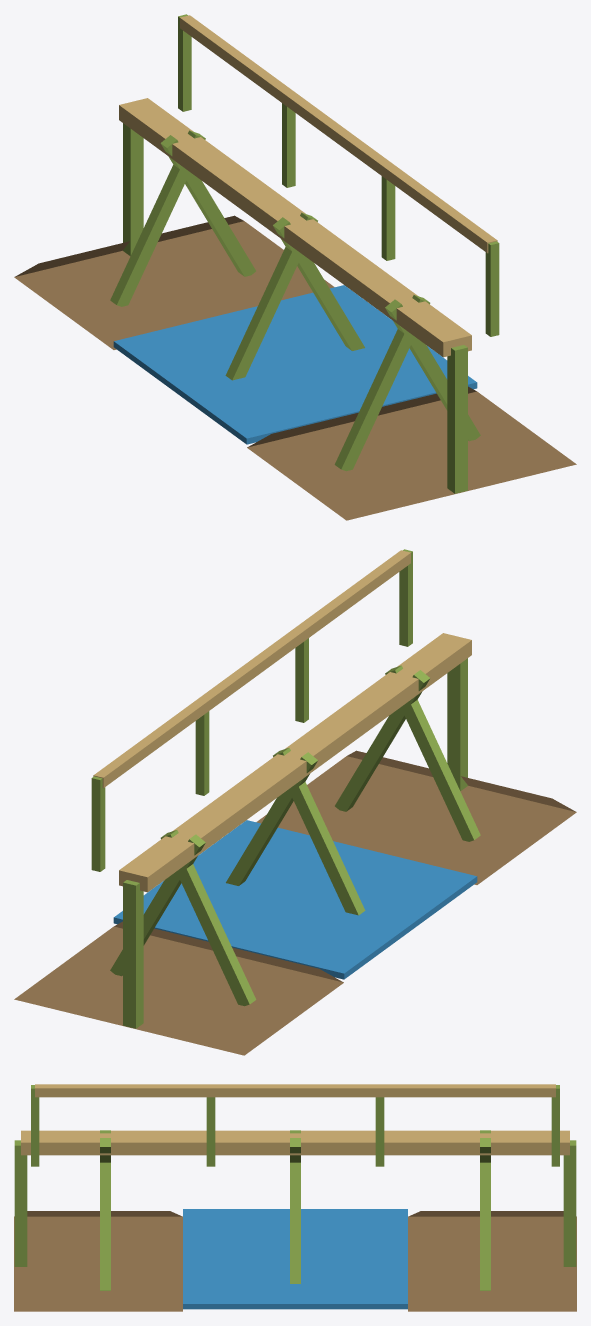
Rendered from viet_monkey_bridge.glb.
3 renders of one model, top to bottom at view 1: azimuth 30°, elevation 25°; view 2: azimuth 150°, elevation 25°; view 3: azimuth 270°, elevation 25°, orthographic. The views are drawn at different scales.
Visible parts, largest first — view 1: viet_monkey_bridge; view 2: viet_monkey_bridge; view 3: viet_monkey_bridge.
Part boxes in pixels (x1,y1,x2,y2): viet_monkey_bridge: (14,14,576,520); viet_monkey_bridge: (14,549,576,1055); viet_monkey_bridge: (14,1084,576,1311).
Size of the model in its own units: 0.4 by 0.3886 by 1.
